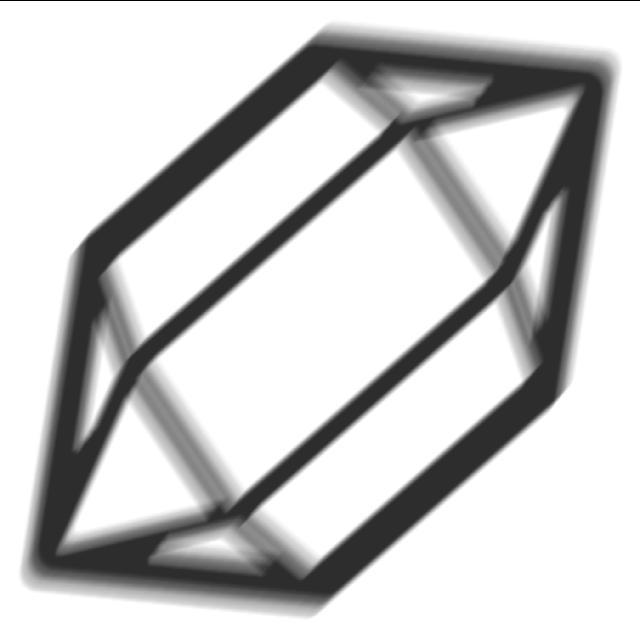crystal: (18, 16, 622, 630)
